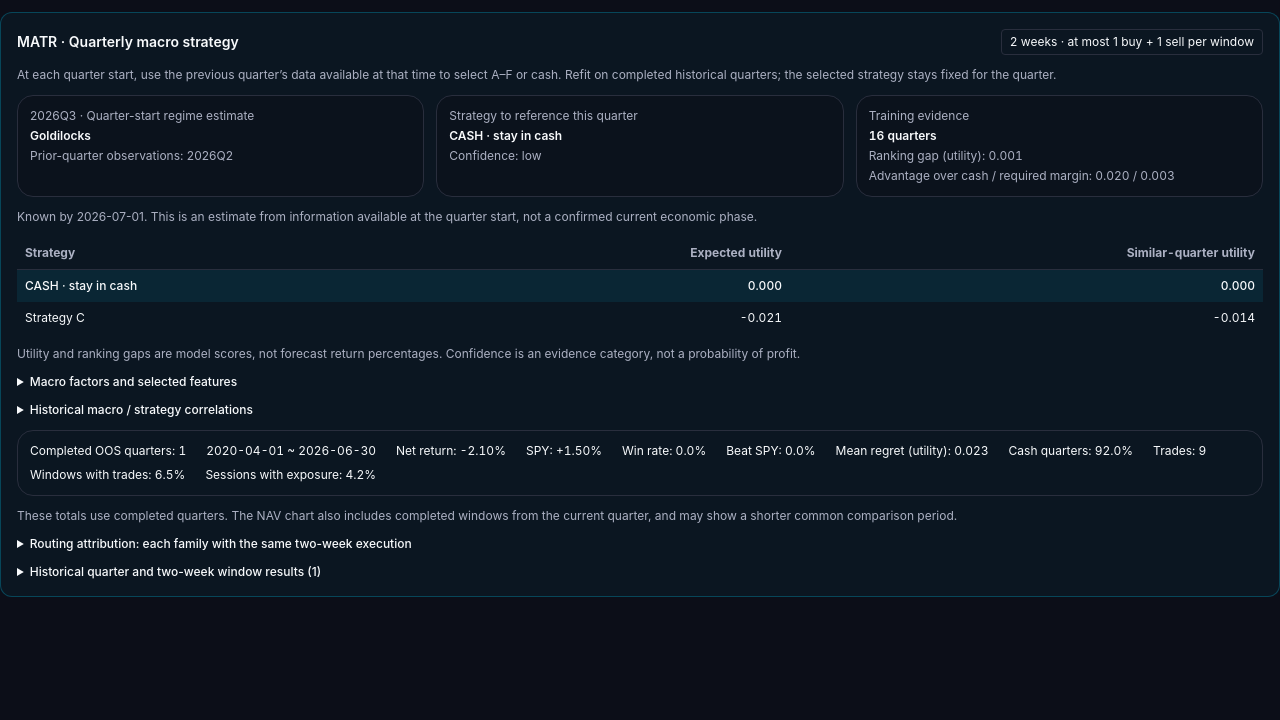
Test: MATR macro strategy report › shows cash abstention, realized exposure and causal family attribution separately
Expected: the element named "Out-of-sample results" shows "Cash quarters: 92.0%", [17,430,1263,496]
Expected: the element named "Out-of-sample results" shows "Trades: 9", [17,430,1263,496]
What coordinates should you click on to do the following:
click the heading "Routing attribution: each family with the same two-week execution"
I would click on:
 (221, 544)
Its box is [30,536,412,551].
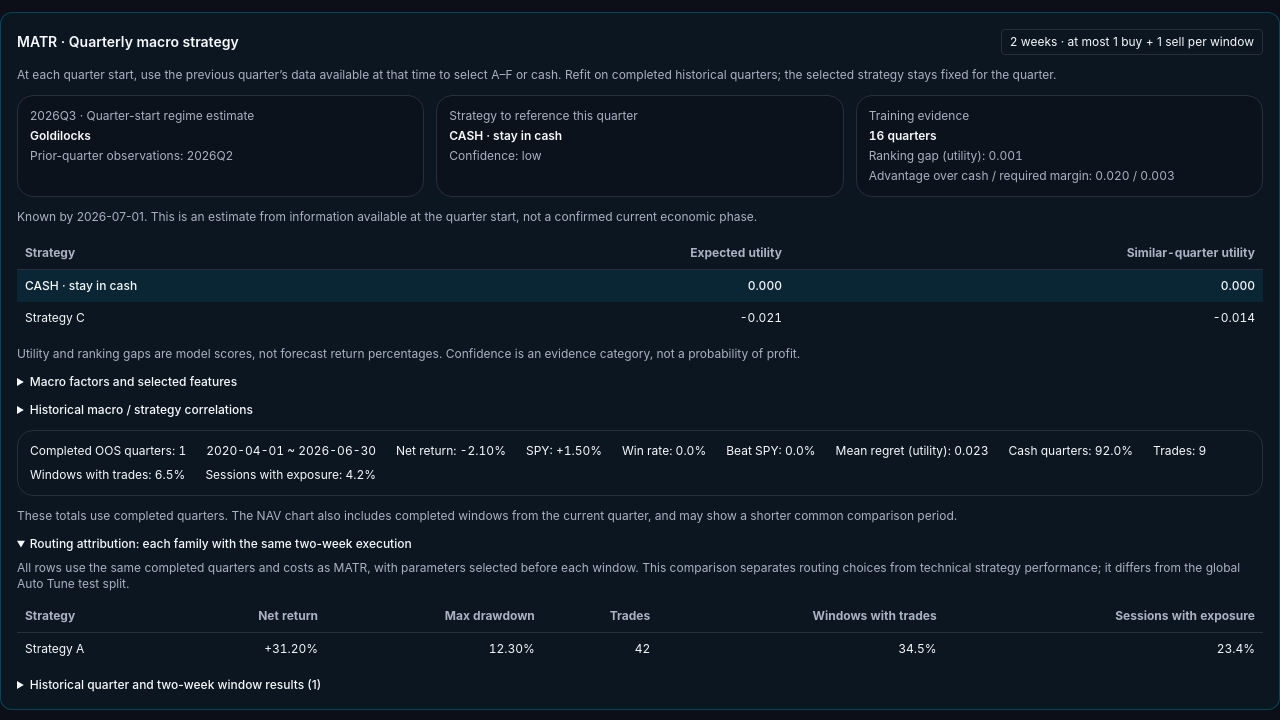
Expected: the table named "Two-week family comparisons" shows "Strategy A", [25,641,84,656]
Expected: the table named "Two-week family comparisons" shows "+31.20%", [264,641,318,656]
Expected: the table named "Two-week family comparisons" shows "12.30%", [17,600,1263,665]
